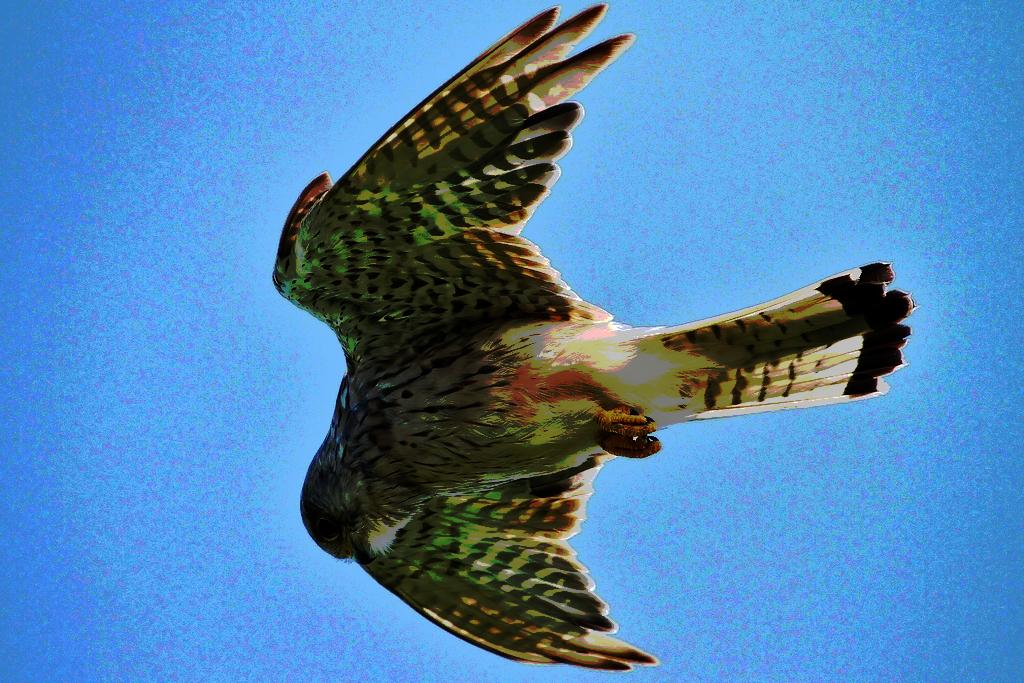Owl: (267, 0, 926, 675)
